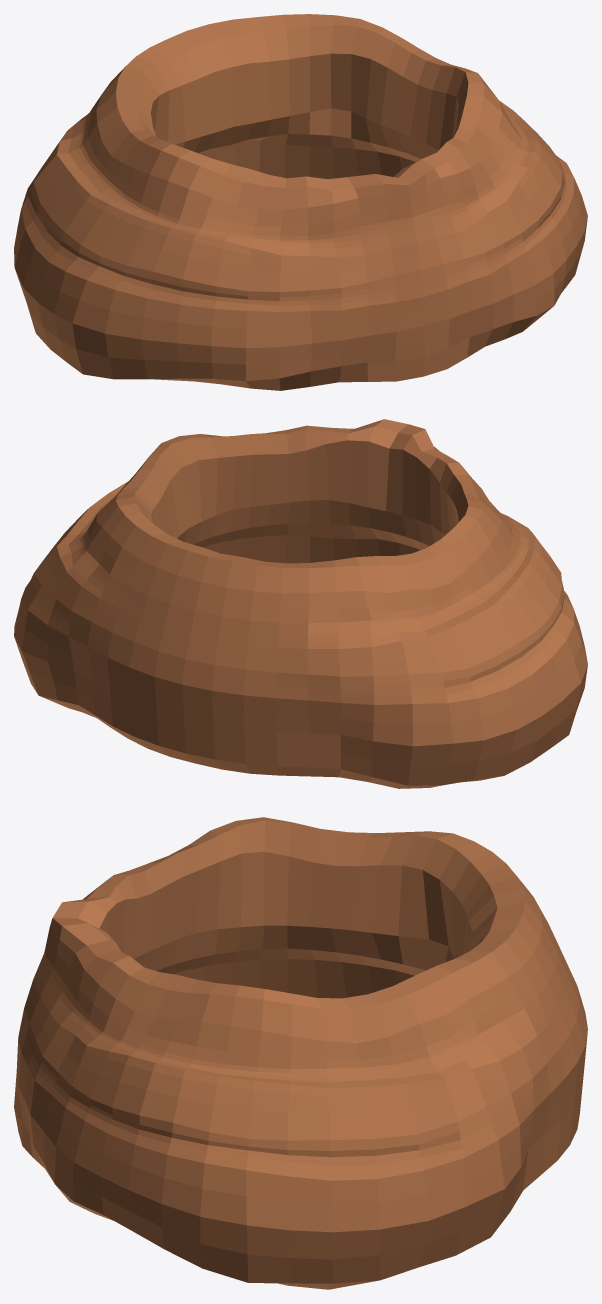
File: Scarf.fbx
3 renders of one model, top to bottom at view 1: azimuth 30°, elevation 25°; view 2: azimuth 150°, elevation 25°; view 3: azimuth 270°, elevation 25°, orthographic. The views are drawn at different scales.
Visible parts, largest first — view 1: SCARF; view 2: SCARF; view 3: SCARF.
Part boxes in pixels (x1,y1,x2,y2): SCARF: [14, 14, 587, 390]; SCARF: [14, 419, 587, 788]; SCARF: [14, 817, 587, 1289].
Size of the model in its own units: 70.6 by 29.91 by 58.44.
